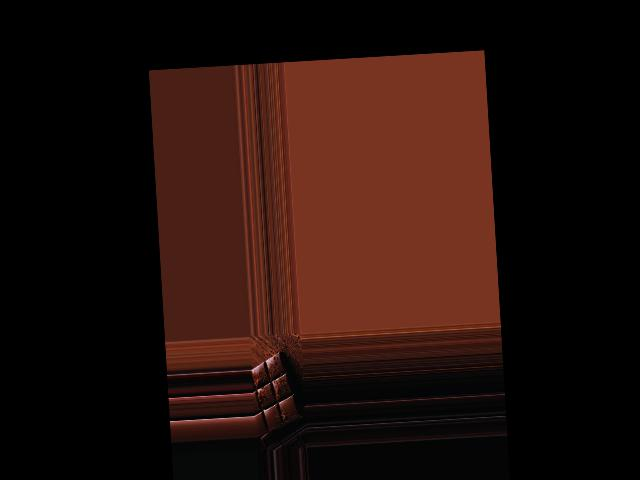chocolate: (250, 347, 302, 437)
